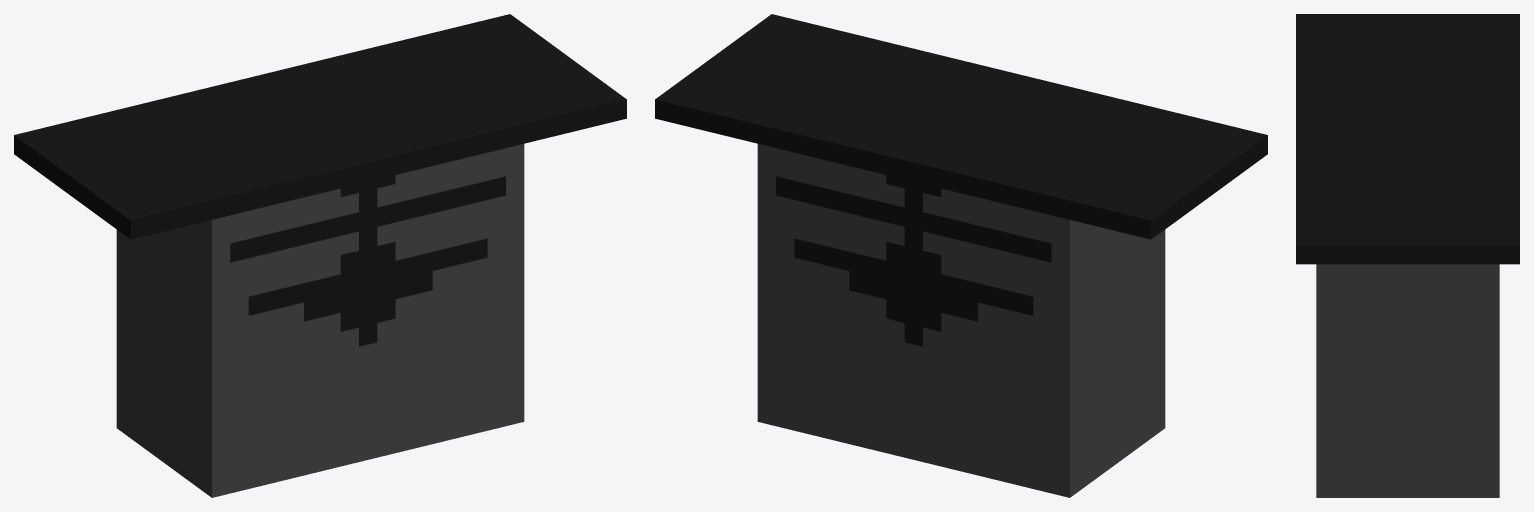
File: Meuble petit(gris).obj
The picture shows the model from 3 angles, left to right: view 1: azimuth 30°, elevation 25°; view 2: azimuth 150°, elevation 25°; view 3: azimuth 270°, elevation 25°; orthographic projection. The views are drawn at different scales.
Bounding box in the file's own units: 2.7 × 1.6 × 1.1.
1 material, 1 textured.
